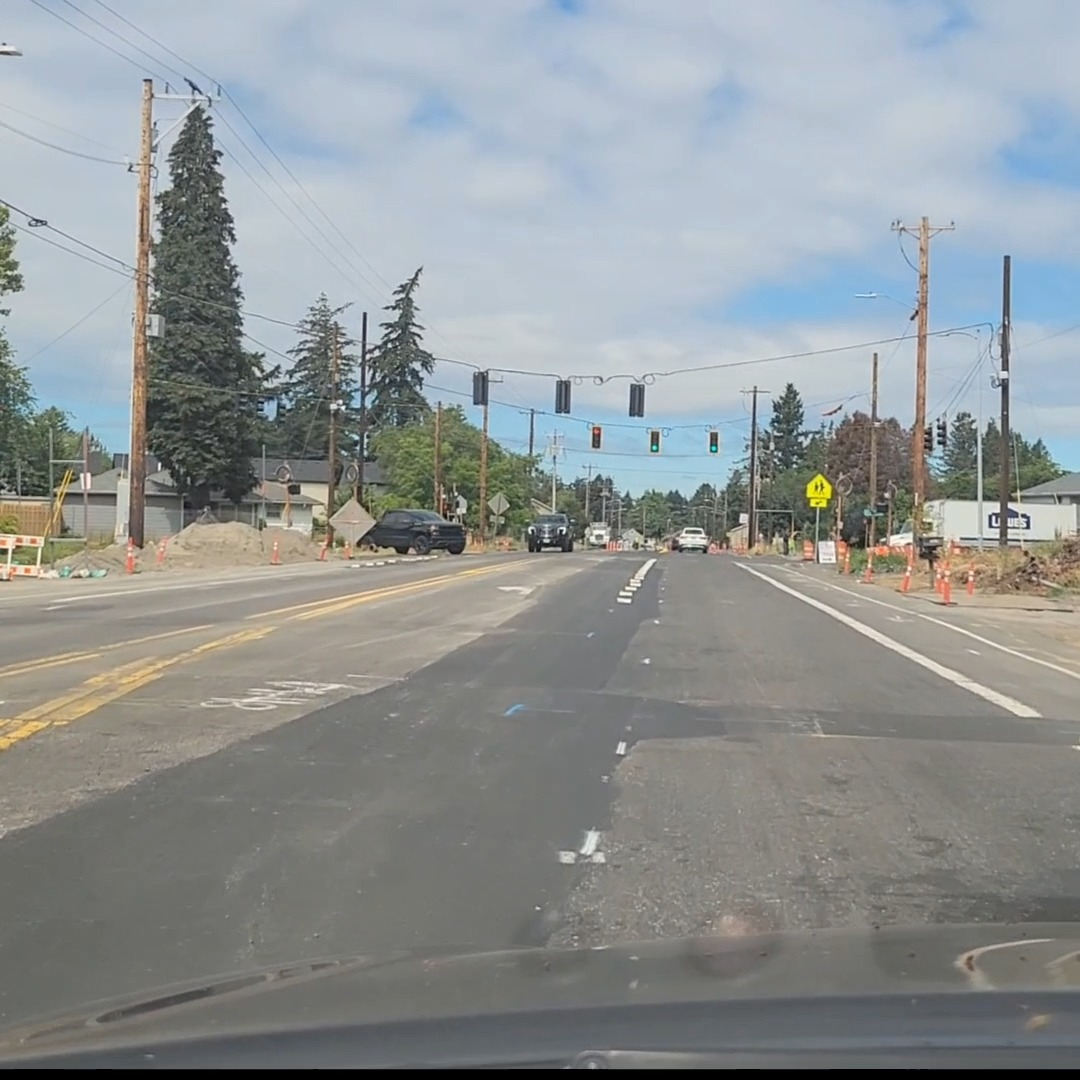car: (361, 508, 464, 555), (525, 513, 578, 552), (670, 526, 709, 553), (585, 521, 611, 547)
crosswalk-sign: (805, 473, 832, 508)
delineator: (862, 542, 875, 582), (904, 541, 915, 585), (937, 570, 951, 602), (125, 539, 136, 573), (155, 536, 168, 564), (317, 538, 329, 561), (270, 539, 281, 564), (901, 565, 911, 592), (966, 569, 975, 594), (844, 550, 851, 574), (343, 539, 351, 559), (735, 540, 745, 553)
